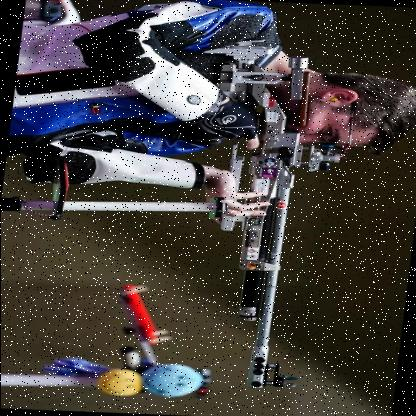rifle: (184, 55, 322, 391)
